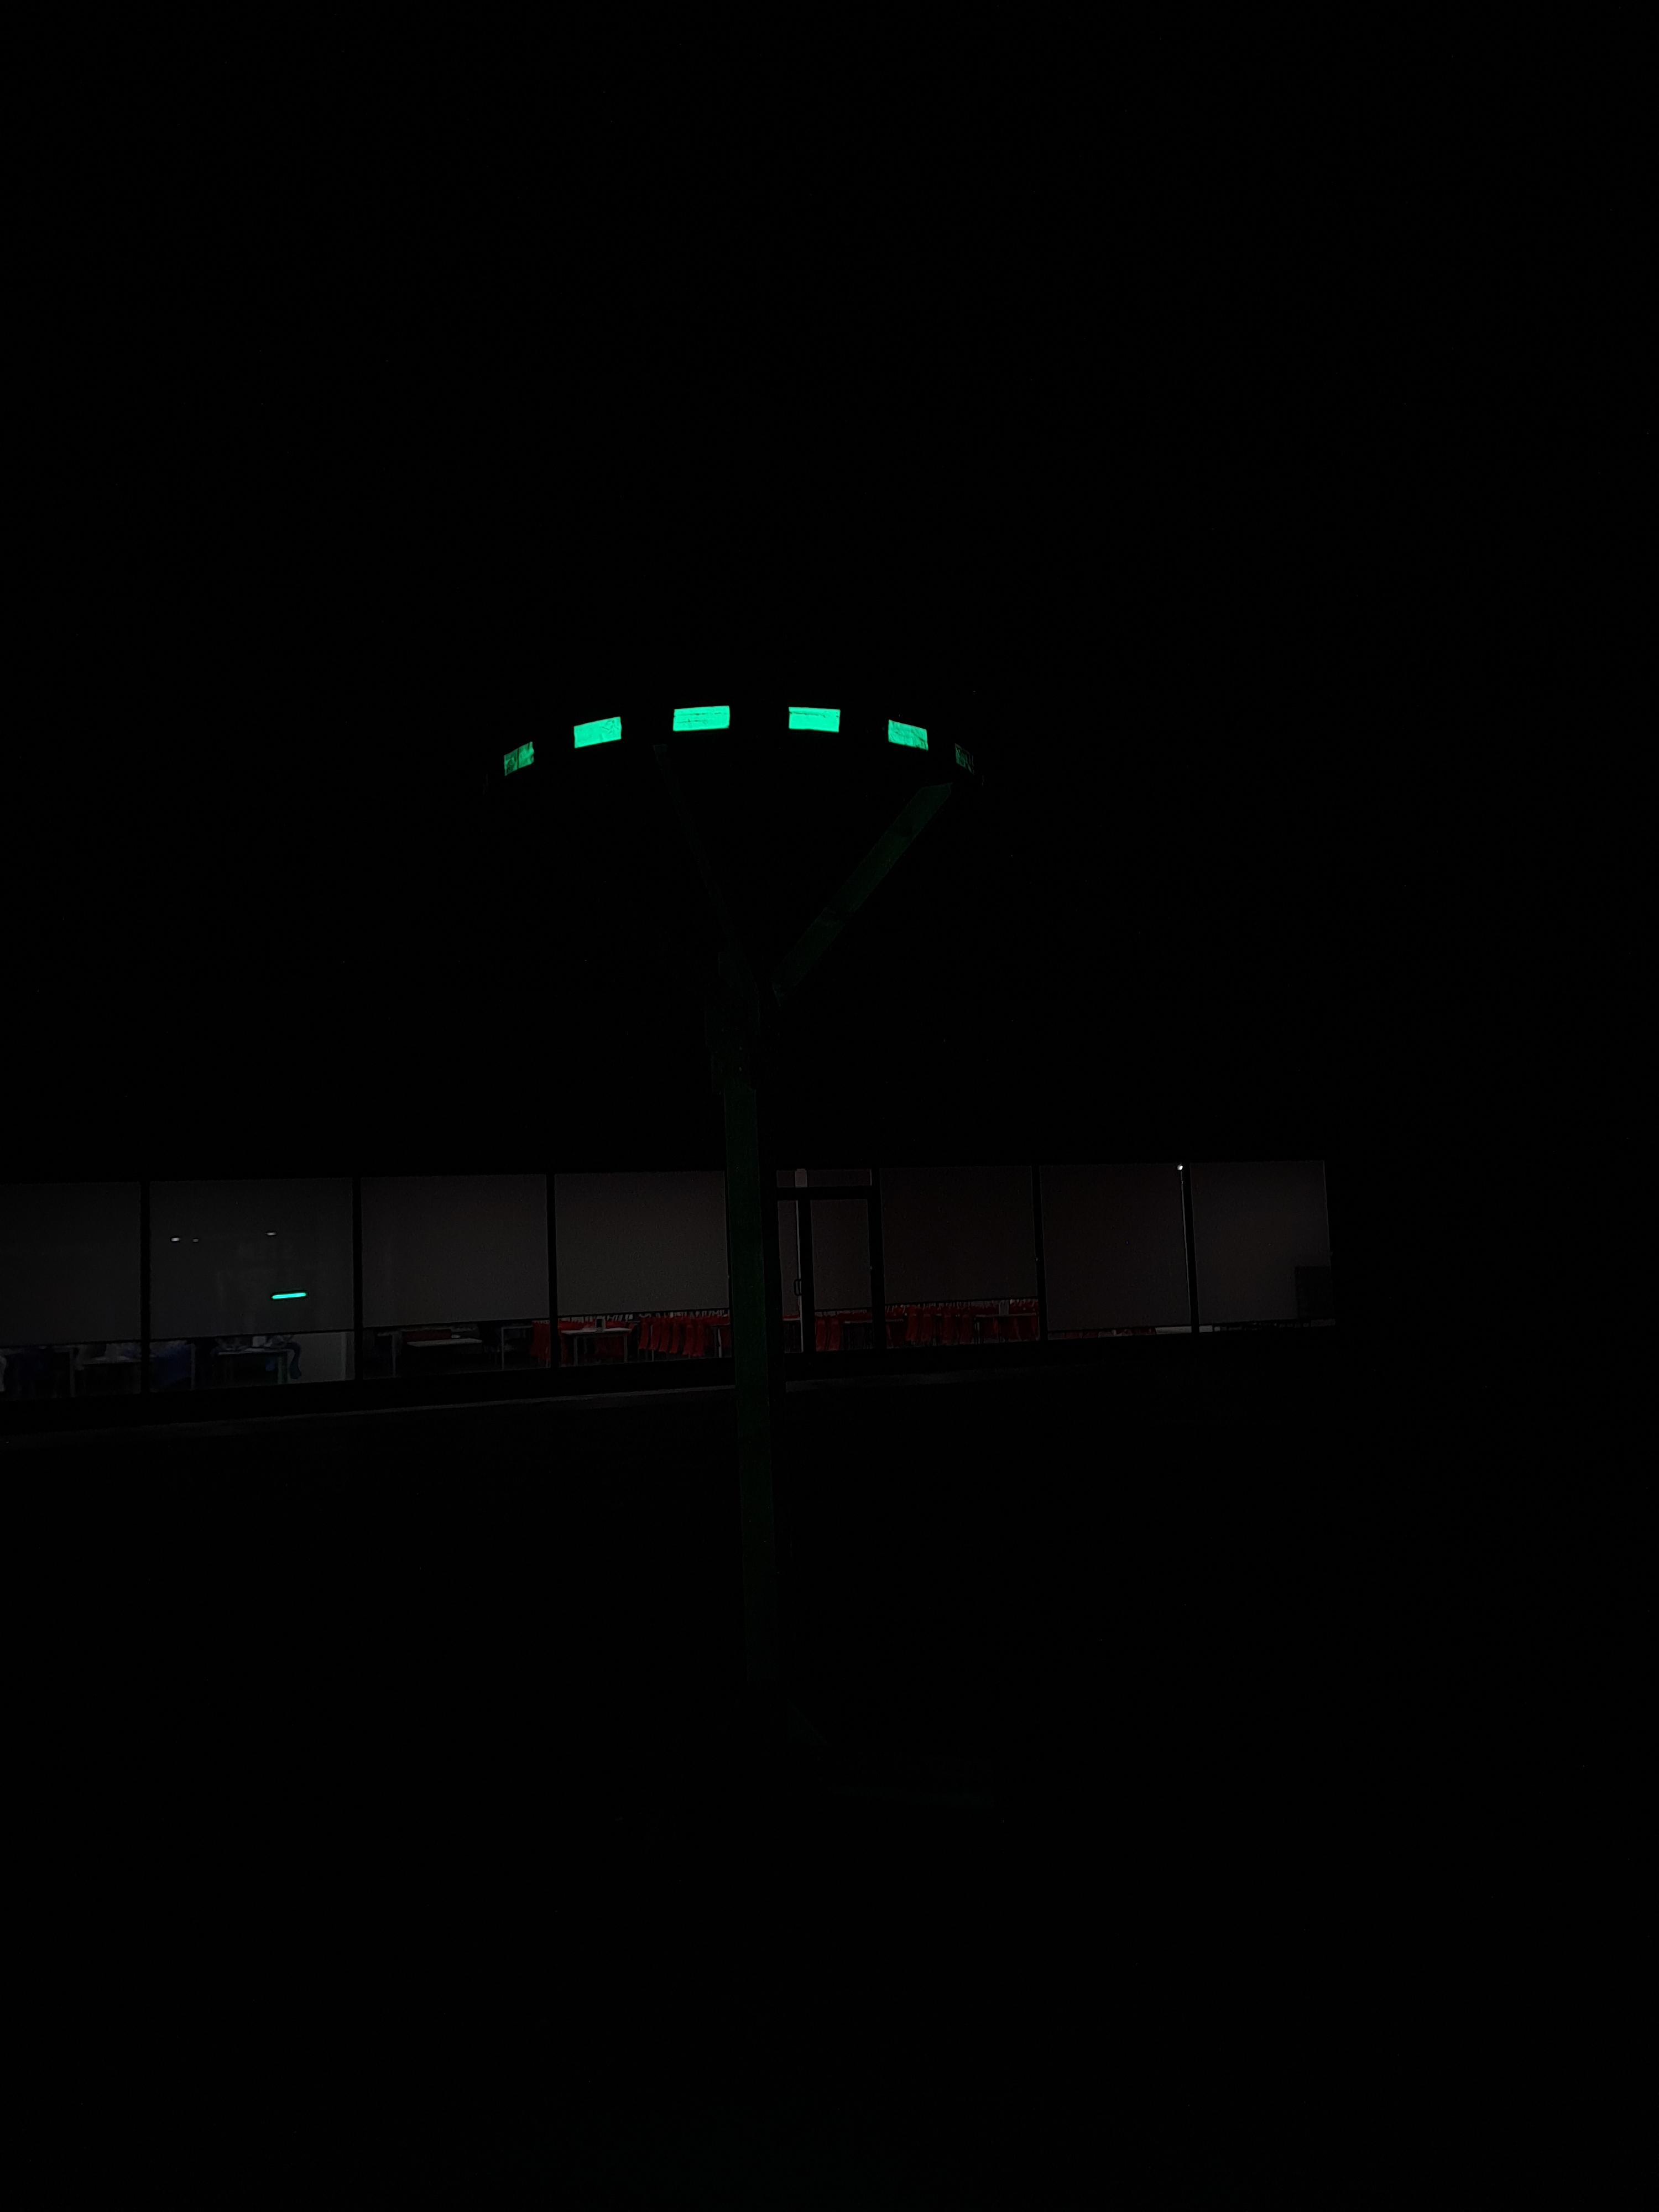hoop: (490, 700, 936, 784)
